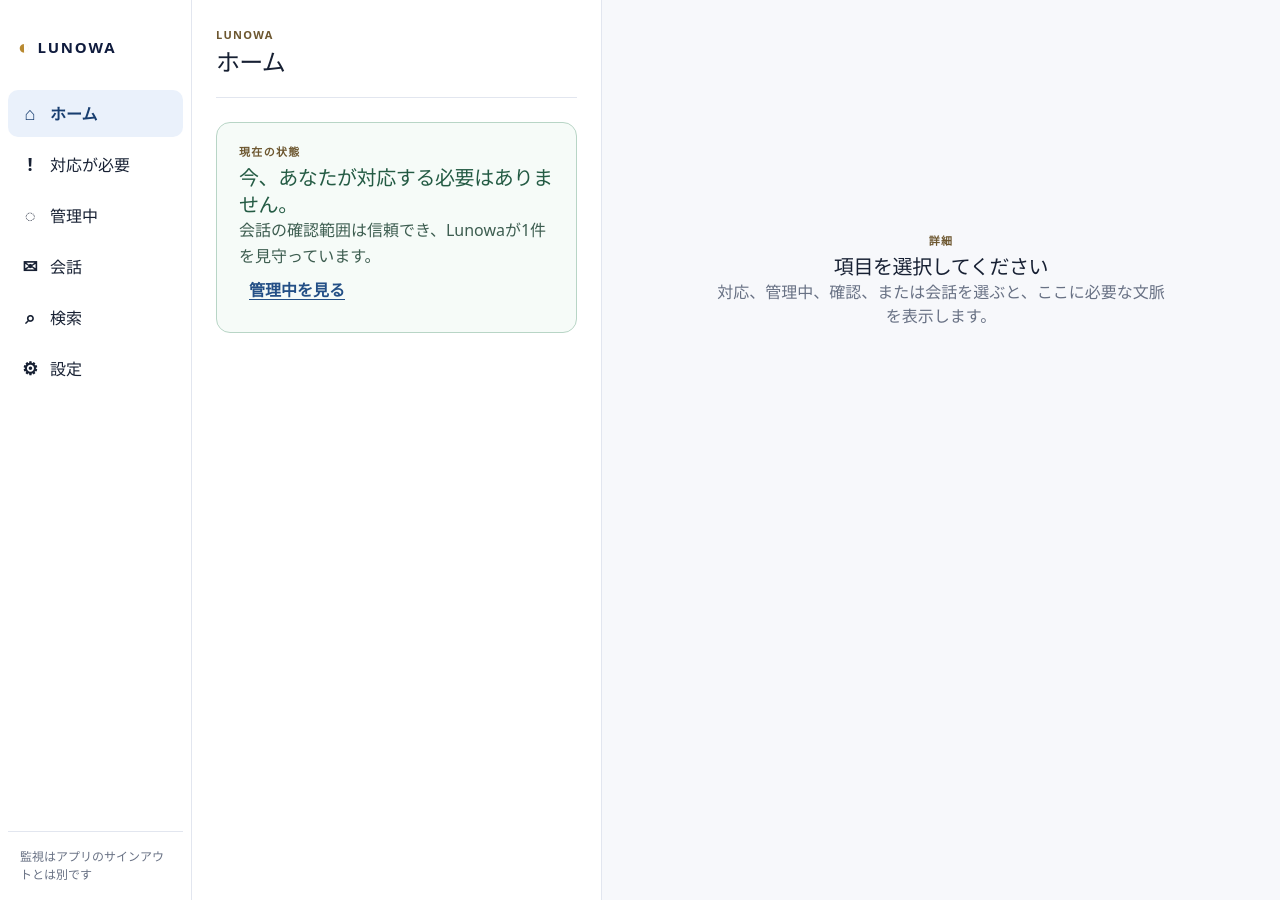
Test: G40 live attention surfaces › keeps accepted Managed truth while a trusted Stop Tracking request is pending or rejected
Click the button "管理中を見る": (297, 290) [239,270,355,310]
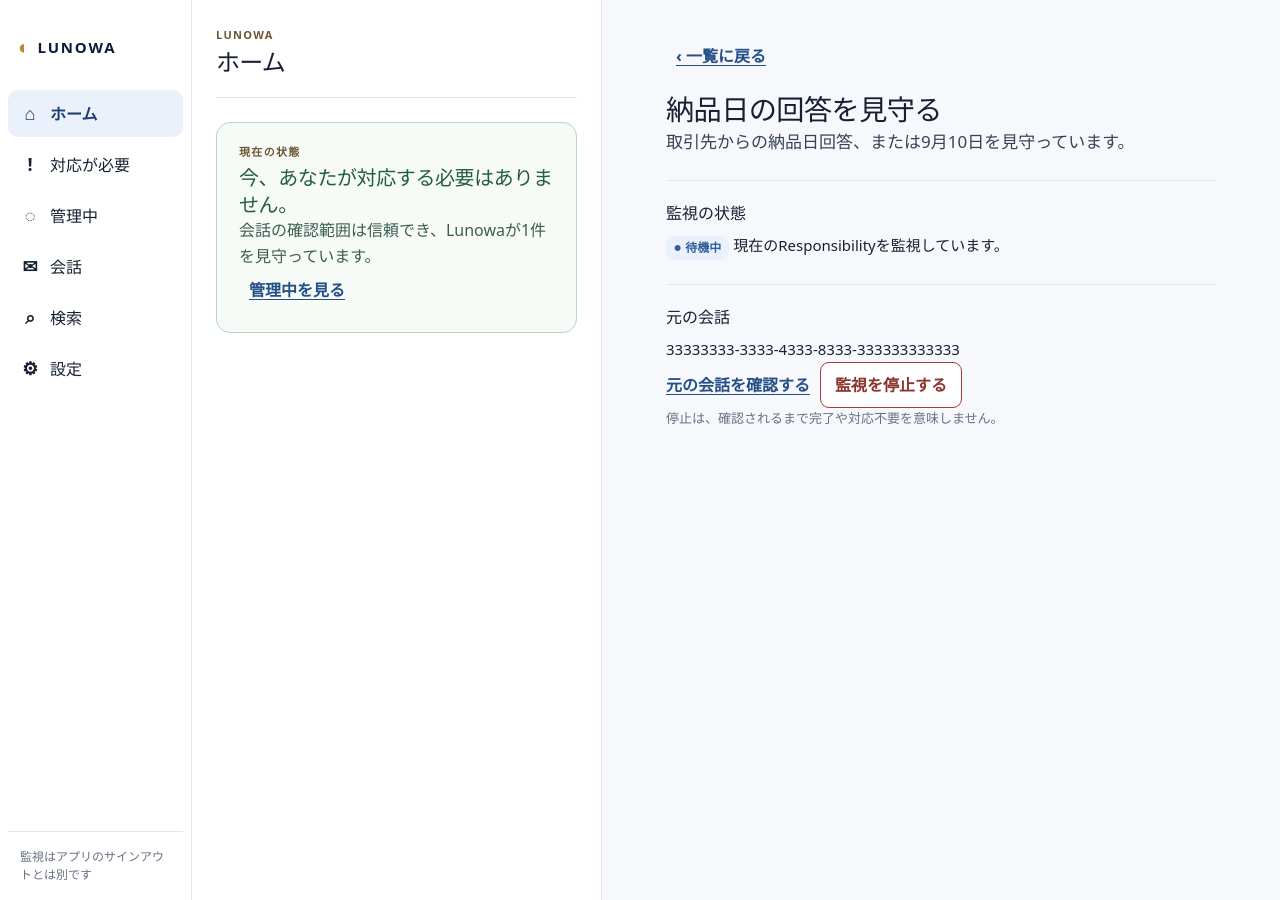
Click the button "監視を停止する": (891, 385) [820,362,962,408]
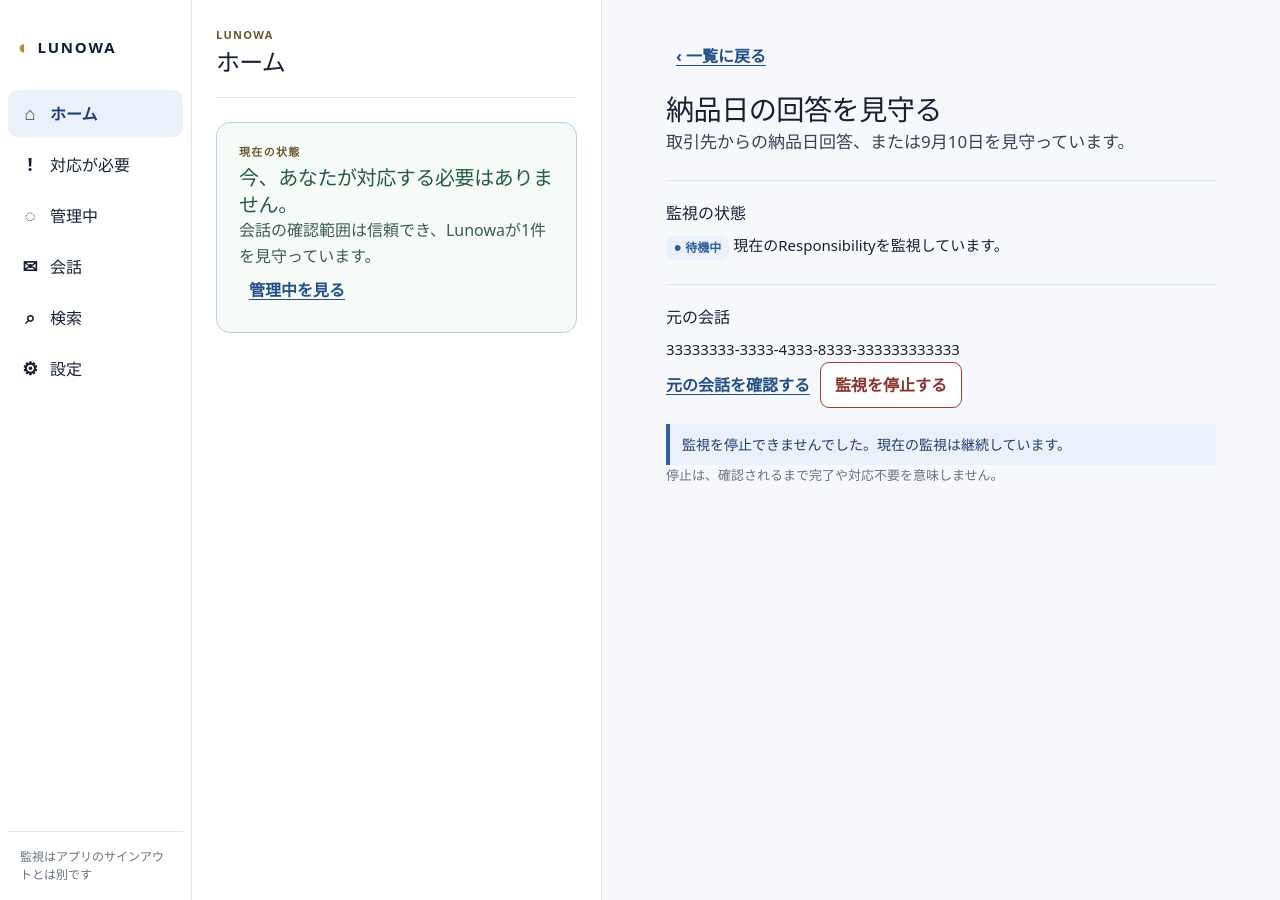
Check: the button named "監視を停止しています" is shown, box [820,362,962,408]
Check: the heading "納品日の回答を見守る" is shown, box [666,90,942,128]
Check: the text "監視を停止できませんでした。現在の監視は継続しています。" is shown, box [666,424,1216,465]
